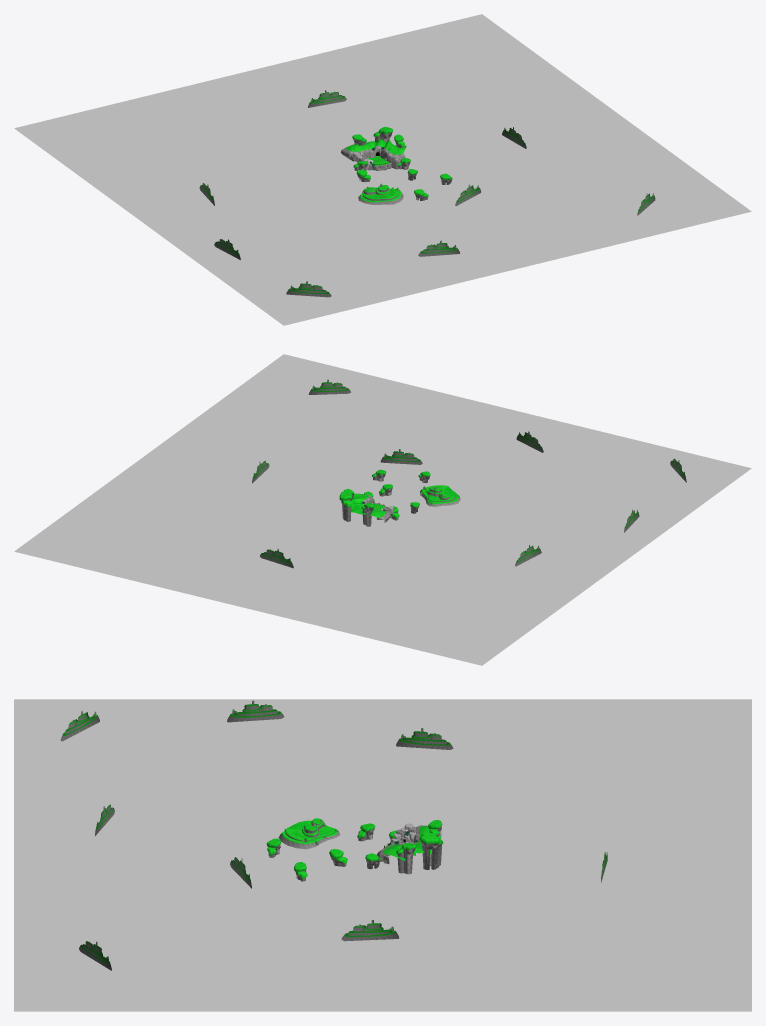
Rendered from Chao Garden.obj.
3 views of the same model, one above another, from view 1: azimuth 30°, elevation 25°; view 2: azimuth 150°, elevation 25°; view 3: azimuth 270°, elevation 25° (orthographic). The views are drawn at different scales.
Visible parts, largest first — view 1: Plane.009_Plane.005, ghz04Z_km1_farislandA_03_ghz04Z_km1_farislandA_02-geometry, Cylinder.012_Cylinder.028; view 2: Plane.009_Plane.005, ghz04Z_km1_farislandA_03_ghz04Z_km1_farislandA_02-geometry; view 3: Plane.009_Plane.005, ghz04Z_km1_farislandA_03_ghz04Z_km1_farislandA_02-geometry, Cube.004_Cube.005, Cube.009_Cube.010, Cube.003_Cube.004, ghz01E_km1_rockA03L_26.007_ghz01E_km1_rockA03L_18-geometry.002.
Part boxes in pixels (bbox=[...]): Plane.009_Plane.005: bbox=[14, 14, 751, 325]; ghz04Z_km1_farislandA_03_ghz04Z_km1_farislandA_02-geometry: bbox=[358, 183, 403, 204]; Cylinder.012_Cylinder.028: bbox=[341, 146, 405, 169]; Plane.009_Plane.005: bbox=[14, 354, 751, 665]; ghz04Z_km1_farislandA_03_ghz04Z_km1_farislandA_02-geometry: bbox=[420, 485, 460, 506]; Plane.009_Plane.005: bbox=[14, 699, 751, 1011]; ghz04Z_km1_farislandA_03_ghz04Z_km1_farislandA_02-geometry: bbox=[278, 818, 340, 849]; Cube.004_Cube.005: bbox=[341, 920, 398, 941]; Cube.009_Cube.010: bbox=[227, 700, 284, 722]; Cube.003_Cube.004: bbox=[396, 728, 453, 749]; ghz01E_km1_rockA03L_26.007_ghz01E_km1_rockA03L_18-geometry.002: bbox=[419, 832, 443, 869].
Size of the model in its own units: 302 by 30.67 by 301.
